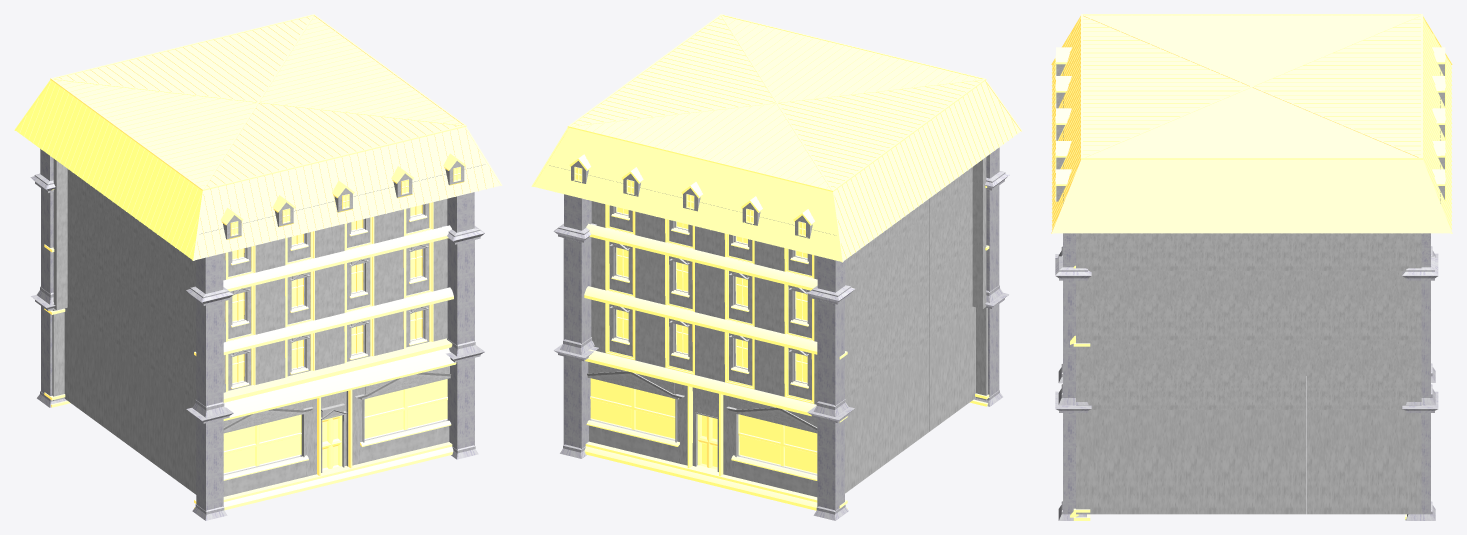
Rendered from Buiding 04 (1).fbx.
3 views of the same model, side by side, from view 1: azimuth 30°, elevation 25°; view 2: azimuth 150°, elevation 25°; view 3: azimuth 270°, elevation 25° (orthographic). The views are drawn at different scales.
Visible parts, largest first — view 1: TinRoof, Rectangular_Long_Window_Frame_Design_01_003_1, Rectangular_Long_Window_Frame_Design_01_003, Cube_023__1__8, Cube_023__1__9, Cube_023__1_, Cube_10, Cube_023__1__1, Rectangular_Window_Wall_03_003_1, Rectangular_Window_Wall_03_003, Wall__6__1, Wall__5__1 (+60 smaller); view 2: TinRoof, Rectangular_Long_Window_Frame_Design_01_003_2, Rectangular_Long_Window_Frame_Design_01_003_3, Cube_023__1__10, Cube_023__1__11, Cube_023__1__3, Cube_023__1__2, Rectangular_Window_Wall_03_003_3, Rectangular_Window_Wall_03_003_2, Wall__3__7, Wall__6__1, Wall__2__7 (+65 smaller); view 3: TinRoof, Wall__1__11, Wall__6__5, Wall__5__5, Wall__2__11, Wall__7__5, Wall__3__11, Wall__8__5, Wall__4__11, Wall_11, Wall__1__10, Wall__1__13 (+31 smaller).
Part boxes in pixels (bbox=[...]): TinRoof: bbox=[14, 14, 502, 260]; Rectangular_Long_Window_Frame_Design_01_003_1: bbox=[364, 379, 447, 439]; Rectangular_Long_Window_Frame_Design_01_003: bbox=[223, 414, 301, 474]; Cube_023__1__8: bbox=[188, 292, 233, 406]; Cube_023__1__9: bbox=[447, 233, 484, 345]; Cube_023__1_: bbox=[186, 407, 233, 510]; Cube_10: bbox=[223, 338, 452, 402]; Cube_023__1__1: bbox=[446, 345, 484, 449]; Rectangular_Window_Wall_03_003_1: bbox=[346, 387, 449, 466]; Rectangular_Window_Wall_03_003: bbox=[223, 398, 316, 496]; Wall__6__1: bbox=[109, 338, 126, 443]; Wall__5__1: bbox=[75, 313, 92, 418]; TinRoof: bbox=[531, 14, 1022, 262]; Rectangular_Long_Window_Frame_Design_01_003_2: bbox=[590, 378, 675, 439]; Rectangular_Long_Window_Frame_Design_01_003_3: bbox=[738, 414, 817, 474]; Cube_023__1__10: bbox=[553, 231, 591, 344]; Cube_023__1__11: bbox=[807, 290, 853, 405]; Cube_023__1__3: bbox=[807, 406, 854, 510]; Cube_023__1__2: bbox=[553, 344, 598, 449]; Rectangular_Window_Wall_03_003_3: bbox=[723, 383, 817, 496]; Rectangular_Window_Wall_03_003_2: bbox=[589, 352, 692, 465]; Wall__3__7: bbox=[929, 325, 946, 431]; Wall__6__1: bbox=[878, 363, 895, 468]; Wall__2__7: bbox=[895, 351, 912, 456]; TinRoof: bbox=[1051, 14, 1452, 233]; Wall__1__11: bbox=[1152, 410, 1191, 514]; Wall__6__5: bbox=[1191, 410, 1229, 514]; Wall__5__5: bbox=[1114, 410, 1152, 514]; Wall__2__11: bbox=[1229, 410, 1267, 514]; Wall__7__5: bbox=[1268, 410, 1306, 514]; Wall__3__11: bbox=[1306, 410, 1344, 514]; Wall__8__5: bbox=[1345, 410, 1383, 514]; Wall__4__11: bbox=[1383, 410, 1421, 514]; Wall_11: bbox=[1076, 410, 1114, 514]; Wall__1__10: bbox=[1152, 340, 1191, 409]; Wall__1__13: bbox=[1152, 271, 1191, 340].
Size of the model in its own units: 2087 by 2074 by 2087.
